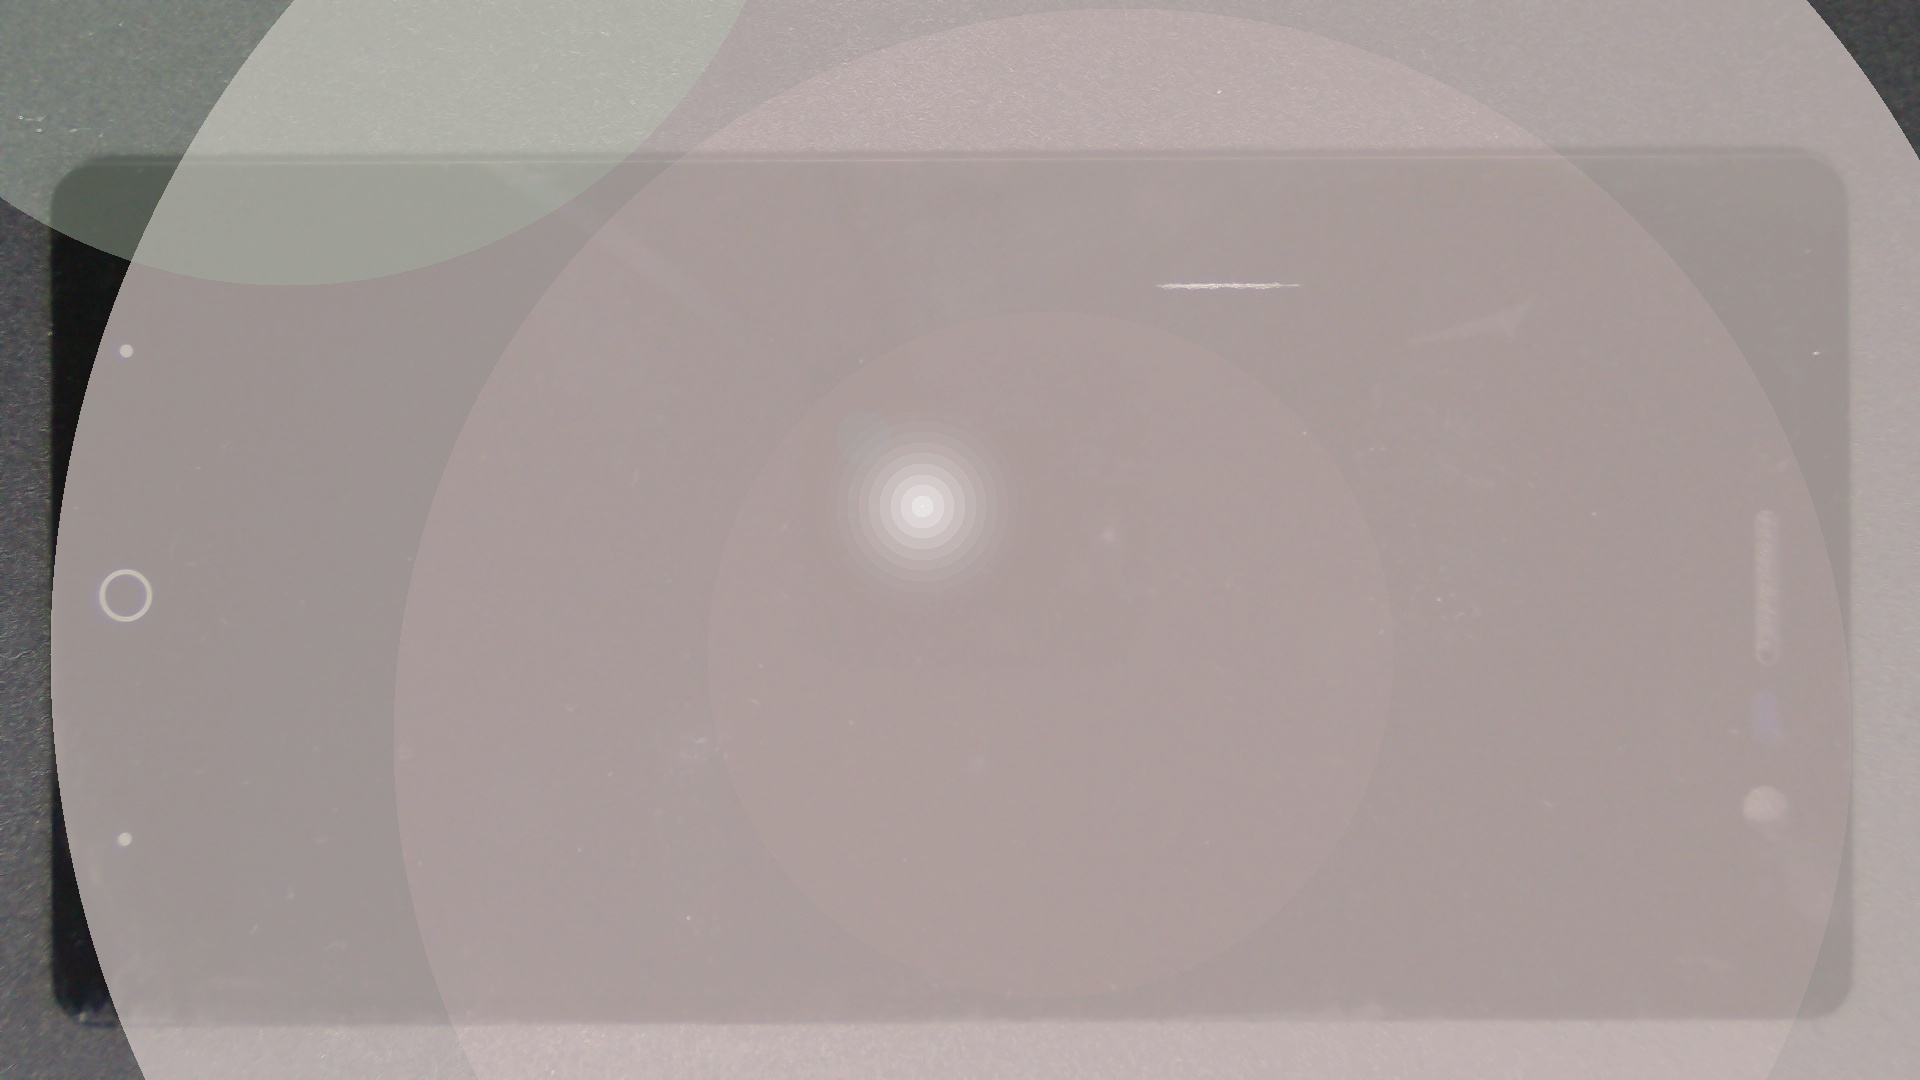oil: (618, 140, 1854, 422)
